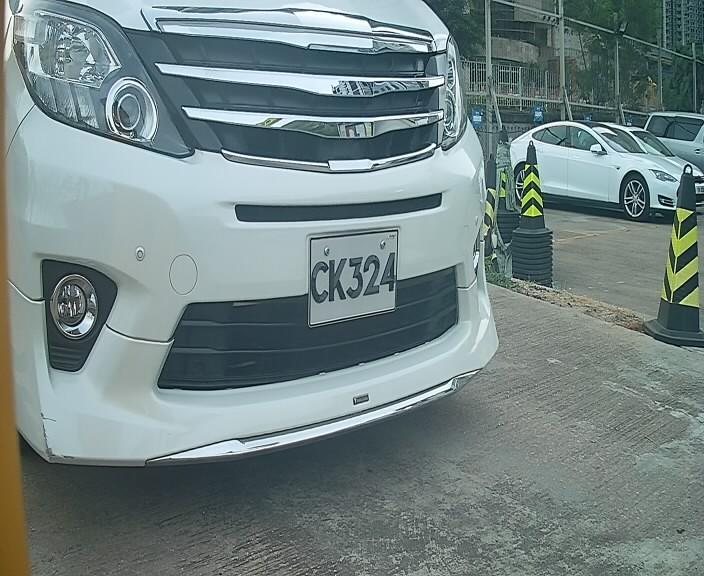License Plate: (299, 209, 412, 327)
